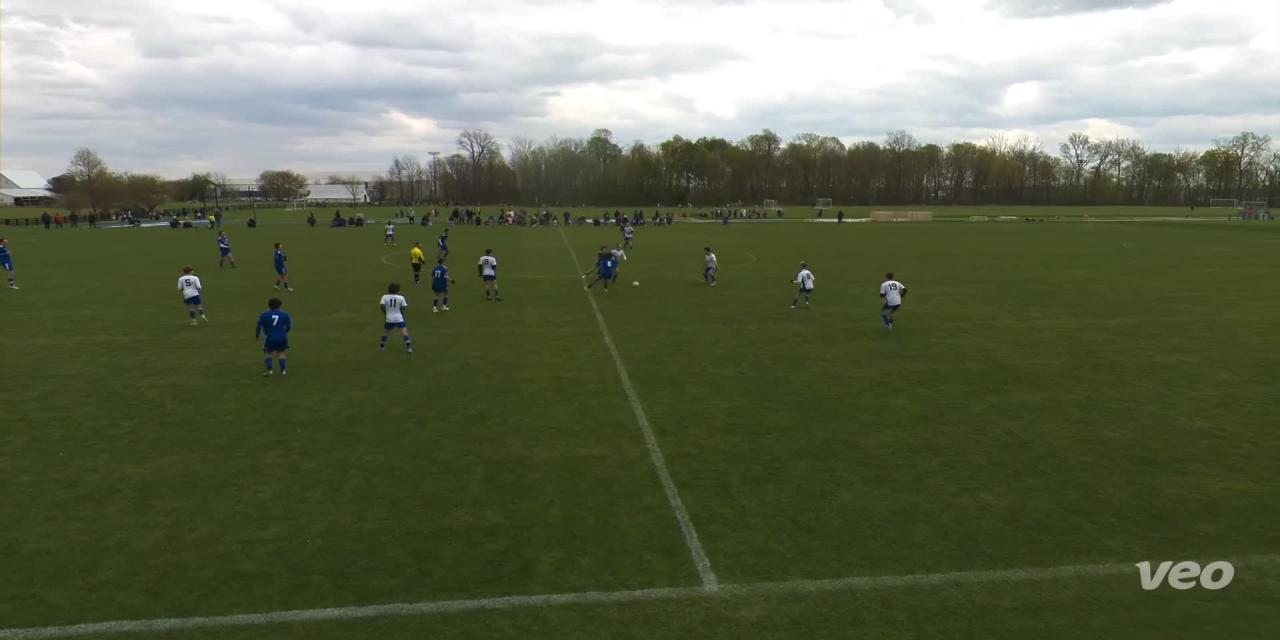sports ball: (629, 276, 648, 293)
